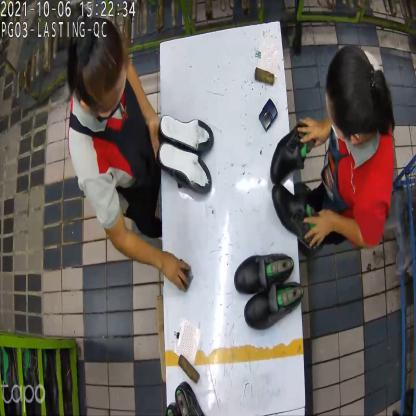shoes: (268, 121, 320, 250), (235, 249, 304, 332), (154, 112, 216, 197)
stamp: (174, 259, 195, 293), (258, 99, 277, 133)
